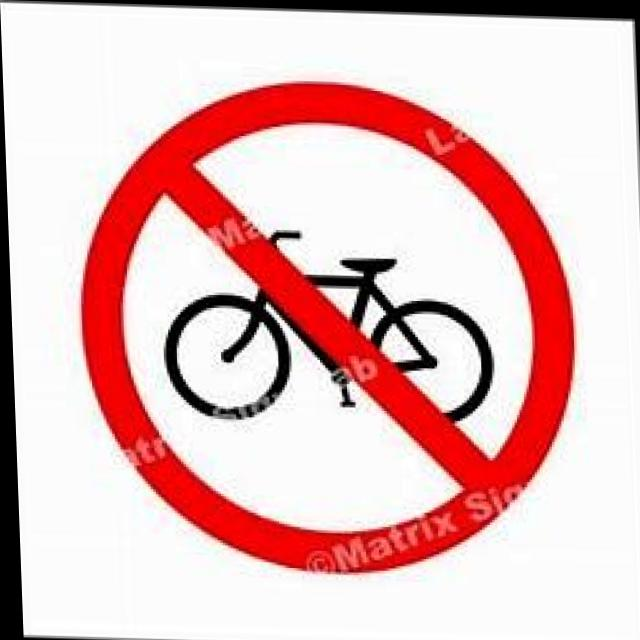CYCLE_PROHIBITED: (74, 62, 581, 582)
